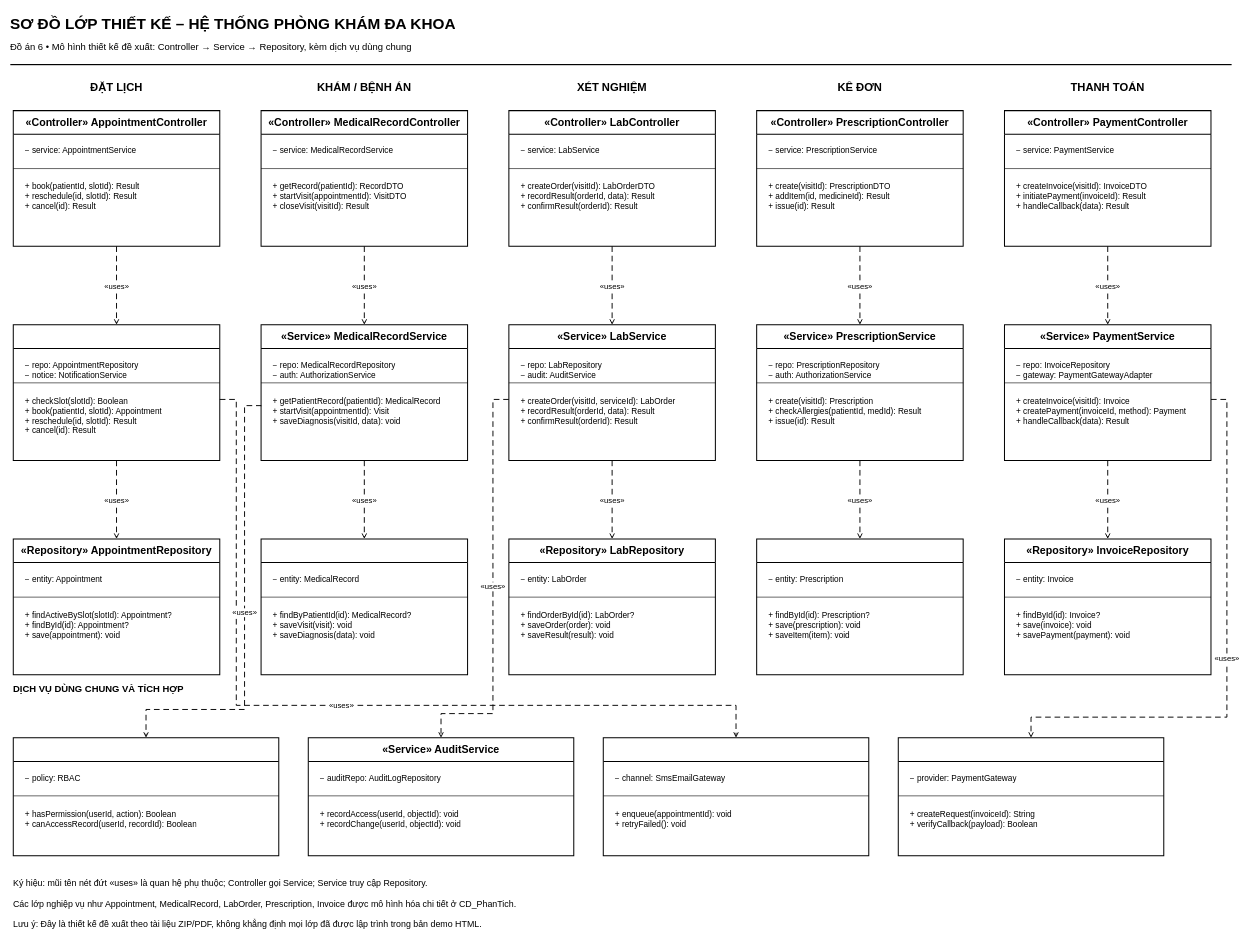
This 1250x942 diagram has some shape labels left out. Here are the shapes that lost their labels. From the top down, the box of each, then its label:
(13, 324, 220, 461): «Service» AppointmentService
(260, 538, 468, 675): «Repository» MedicalRecordRepository
(756, 538, 963, 675): «Repository» PrescriptionRepository
(13, 737, 279, 856): «Service» AuthorizationService
(603, 737, 869, 856): «Service» NotificationService
(898, 737, 1164, 856): «Adapter» PaymentGatewayAdapter
